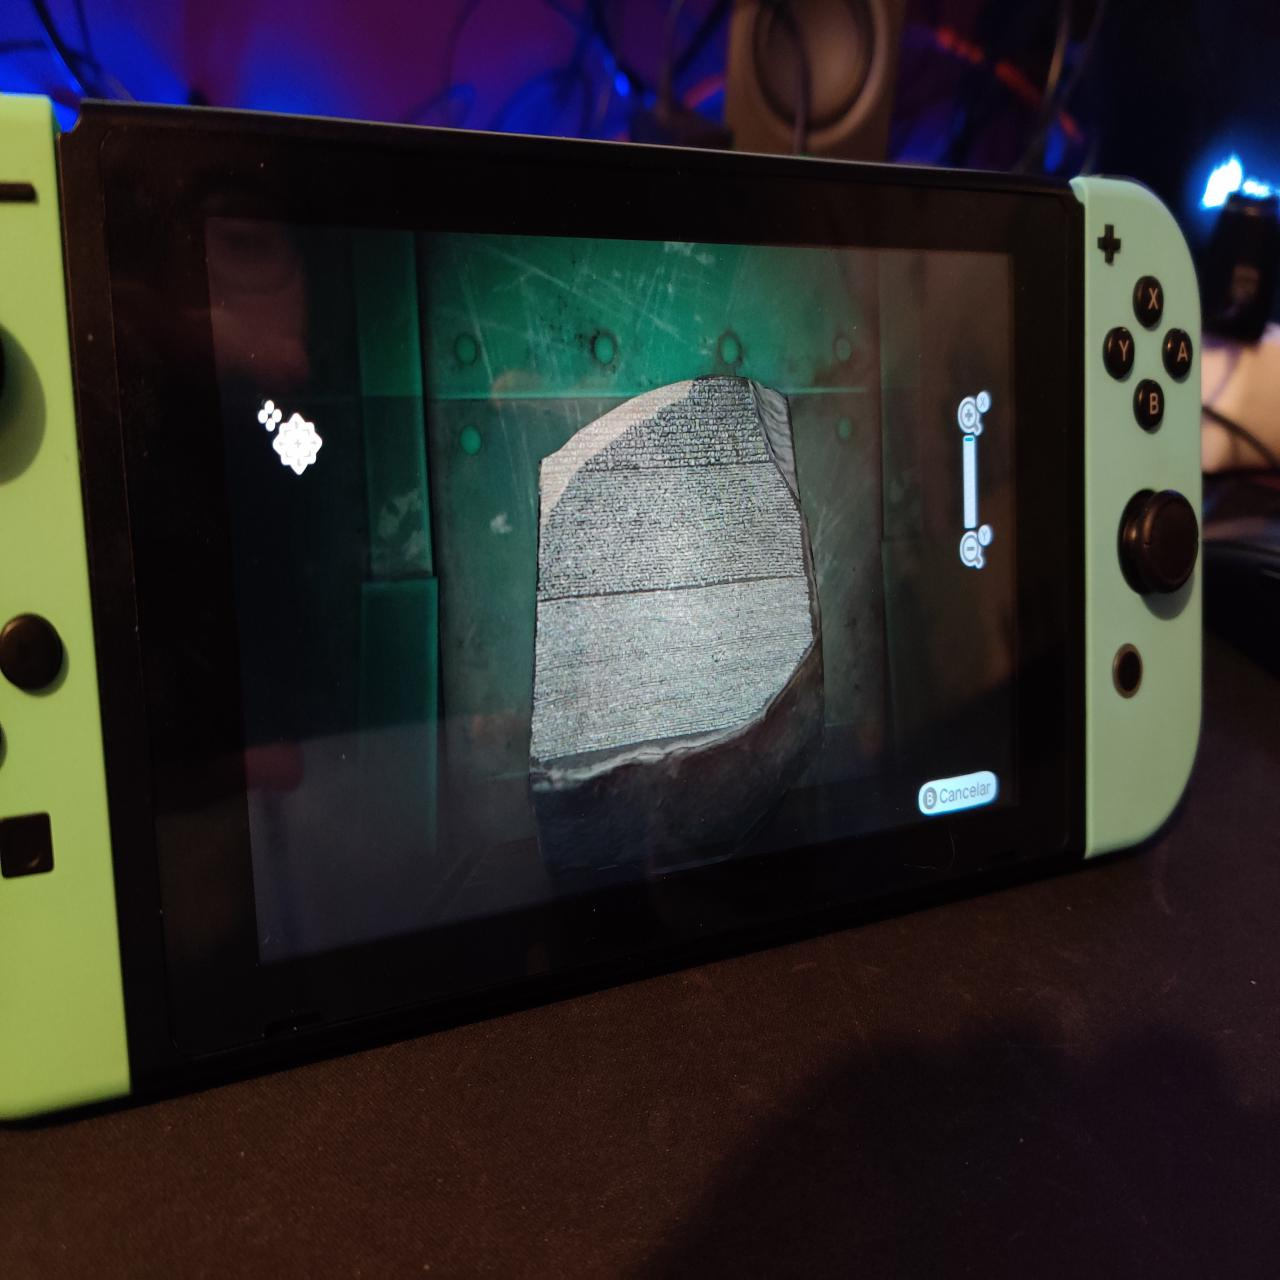RosettaStone: (530, 377, 824, 869)
